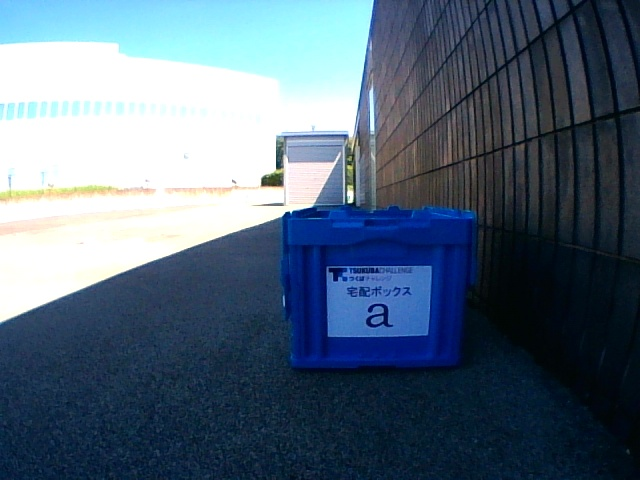blue_box: (281, 205, 478, 366)
tag_a: (327, 265, 427, 336)
